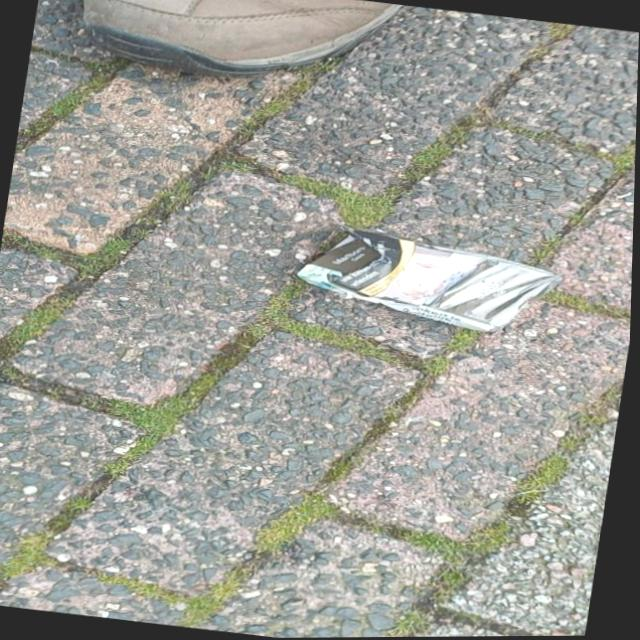Paper: (288, 217, 572, 342)
